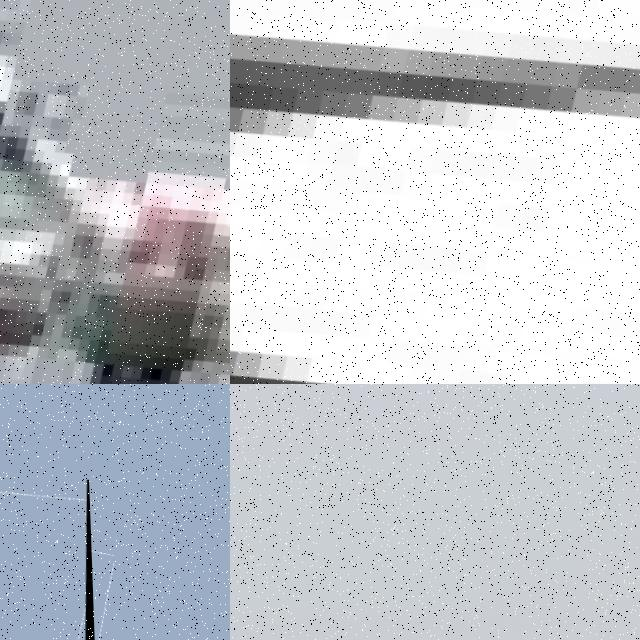0: (0, 0, 230, 384), (0, 479, 105, 640)
drone: (230, 0, 640, 384)
